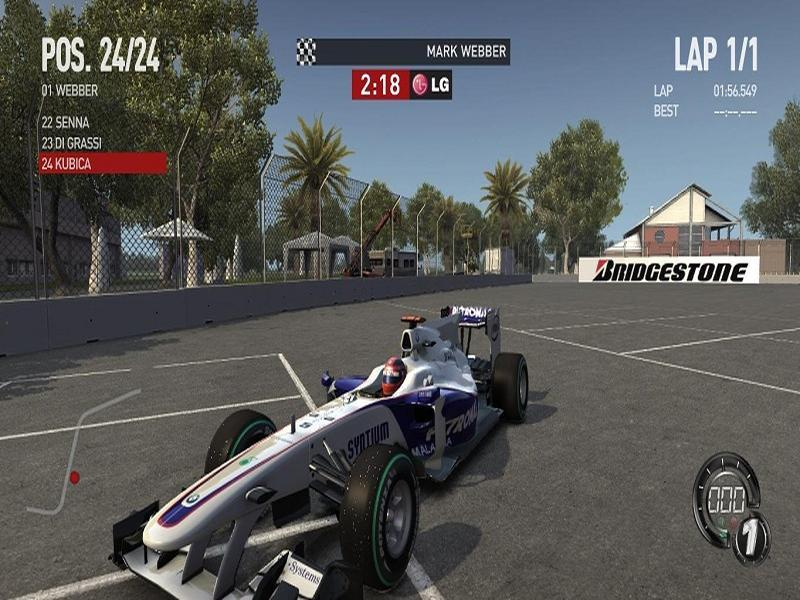f1: (117, 291, 514, 599)
